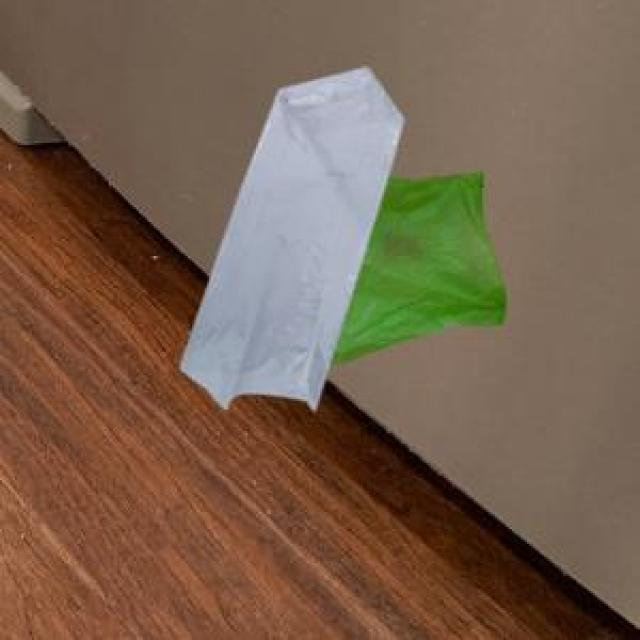plastic: (152, 48, 566, 464)
